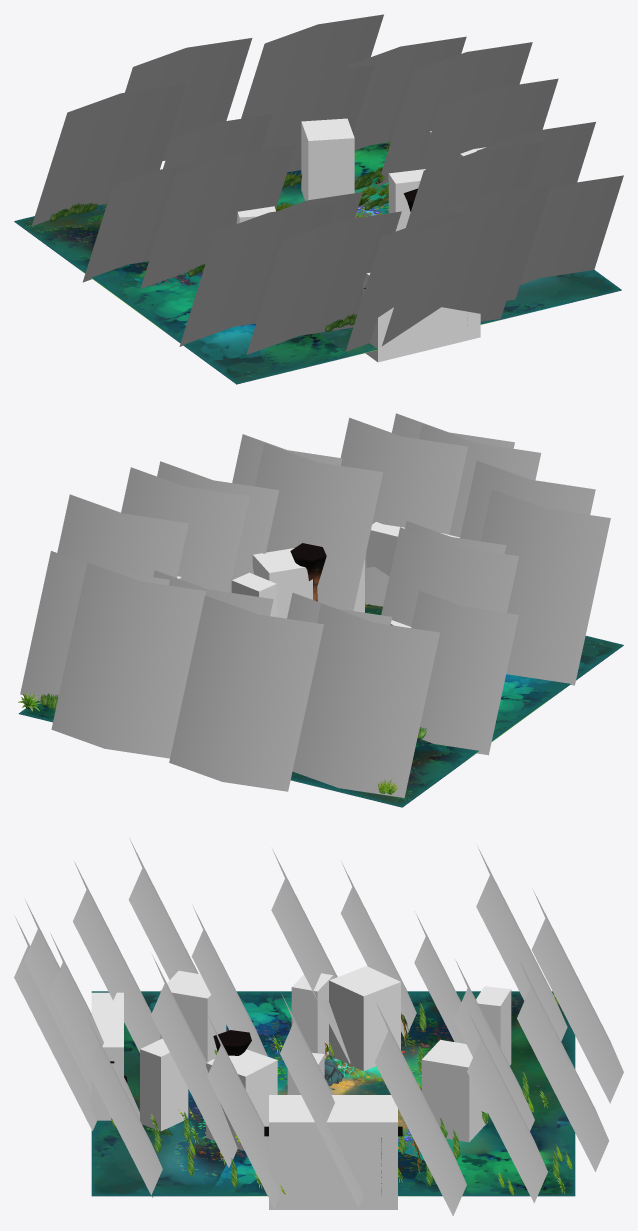
The model's file is FieldDungeon_02_001_Road_L_004.fbx.
3 renders of one model, top to bottom at view 1: azimuth 30°, elevation 25°; view 2: azimuth 150°, elevation 25°; view 3: azimuth 270°, elevation 25°, orthographic. The views are drawn at different scales.
Parts seen in each view (by area): view 1: FieldArea_02_001_tree_1_AA, FieldArea_02_001_tree_1_BB, FieldDungeon_02_001_Door_Back_001, FieldArea_02_001_ground2, FieldDungeon_02_001_Door_Left_001, DoorWay_NavMask (1) (×3), Cube_08, FieldArea_02_001_kusa, Cube_04, FieldDungeon_02_001_Door_Back_001_shadow, FieldArea_02_001_ground1; view 2: FieldArea_02_001_tree_1_BB, FieldArea_02_001_tree_1_AA, FieldDungeon_02_001_Door_Left_001, FieldDungeon_02_001_Door_Back_001, FieldArea_02_001_ground2, Cube_07, DoorWay_NavMask (1), Dungeon_011_Object_010, Cube_04, FieldArea_02_001_kusa; view 3: FieldArea_02_001_tree_1_AA, FieldArea_02_001_ground2, FieldArea_02_001_tree_1_BB, DoorWay_NavMask (1) (×4), FieldDungeon_02_001_Door_Left_001, FieldDungeon_02_001_Door_Back_001, Cube_02, Cube_08, Cube_03, FieldArea_02_001_kusa, Cube_01, FieldDungeon_02_001_Door_Left_001_shadow (+5 smaller).
Boxes of the visible parts, box(x1,y1,x2,y2) form: FieldArea_02_001_tree_1_AA: box(82, 122, 623, 354); FieldArea_02_001_tree_1_BB: box(32, 14, 466, 225); FieldDungeon_02_001_Door_Back_001: box(345, 184, 551, 351); FieldArea_02_001_ground2: box(14, 142, 621, 383); FieldDungeon_02_001_Door_Left_001: box(377, 42, 558, 186); DoorWay_NavMask (1) (×3): box(363, 273, 480, 362); Cube_08: box(301, 118, 354, 200); FieldArea_02_001_kusa: box(50, 140, 390, 331); Cube_04: box(388, 169, 425, 231); FieldDungeon_02_001_Door_Back_001_shadow: box(318, 313, 507, 355); FieldArea_02_001_ground1: box(14, 221, 621, 384); FieldArea_02_001_tree_1_BB: box(20, 551, 439, 797); FieldArea_02_001_tree_1_AA: box(157, 434, 610, 755); FieldDungeon_02_001_Door_Left_001: box(57, 467, 249, 592); FieldDungeon_02_001_Door_Back_001: box(340, 413, 541, 606); FieldArea_02_001_ground2: box(19, 608, 623, 806); Cube_07: box(252, 548, 312, 618); DoorWay_NavMask (1): box(366, 522, 459, 576); Dungeon_011_Object_010: box(290, 543, 326, 601); Cube_04: box(231, 572, 276, 617); FieldArea_02_001_kusa: box(18, 601, 426, 794); FieldArea_02_001_tree_1_AA: box(73, 838, 416, 1208); FieldArea_02_001_ground2: box(91, 991, 575, 1195); FieldArea_02_001_tree_1_BB: box(414, 846, 623, 1203); DoorWay_NavMask (1) (×4): box(91, 992, 397, 1209); FieldDungeon_02_001_Door_Left_001: box(280, 993, 466, 1215); FieldDungeon_02_001_Door_Back_001: box(14, 899, 139, 1130); Cube_02: box(329, 966, 400, 1070); Cube_08: box(421, 1039, 487, 1142); Cube_03: box(140, 1038, 188, 1131); FieldArea_02_001_kusa: box(111, 994, 572, 1195); Cube_01: box(160, 970, 226, 1062); FieldDungeon_02_001_Door_Left_001_shadow: box(210, 1151, 471, 1195).
Size of what is drawn, in the model's own units: 16.95 by 5.86 by 18.92.
